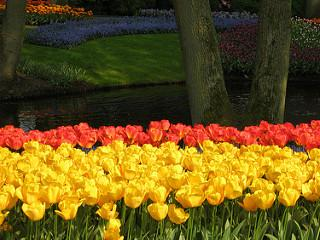tulip: (56, 198, 83, 219), (254, 188, 276, 209), (23, 200, 46, 220), (125, 187, 147, 207), (205, 185, 226, 205), (169, 203, 190, 223), (146, 201, 169, 218), (279, 187, 300, 205), (76, 131, 97, 148), (96, 203, 118, 219)
